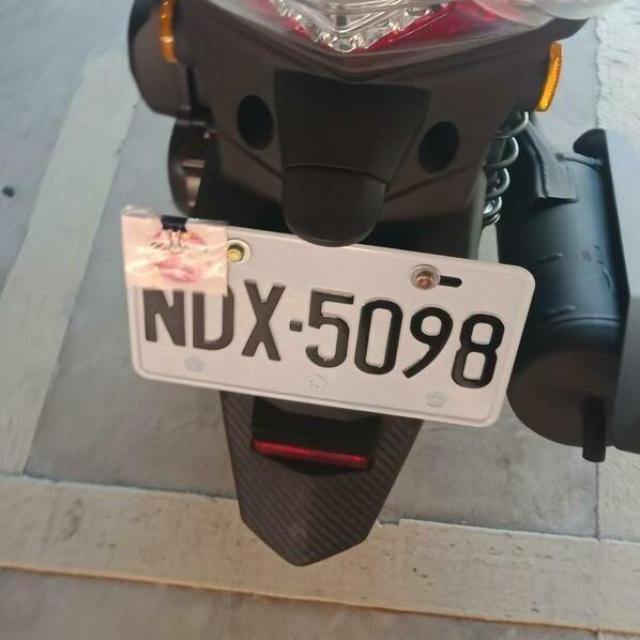W: (108, 208, 536, 444)
